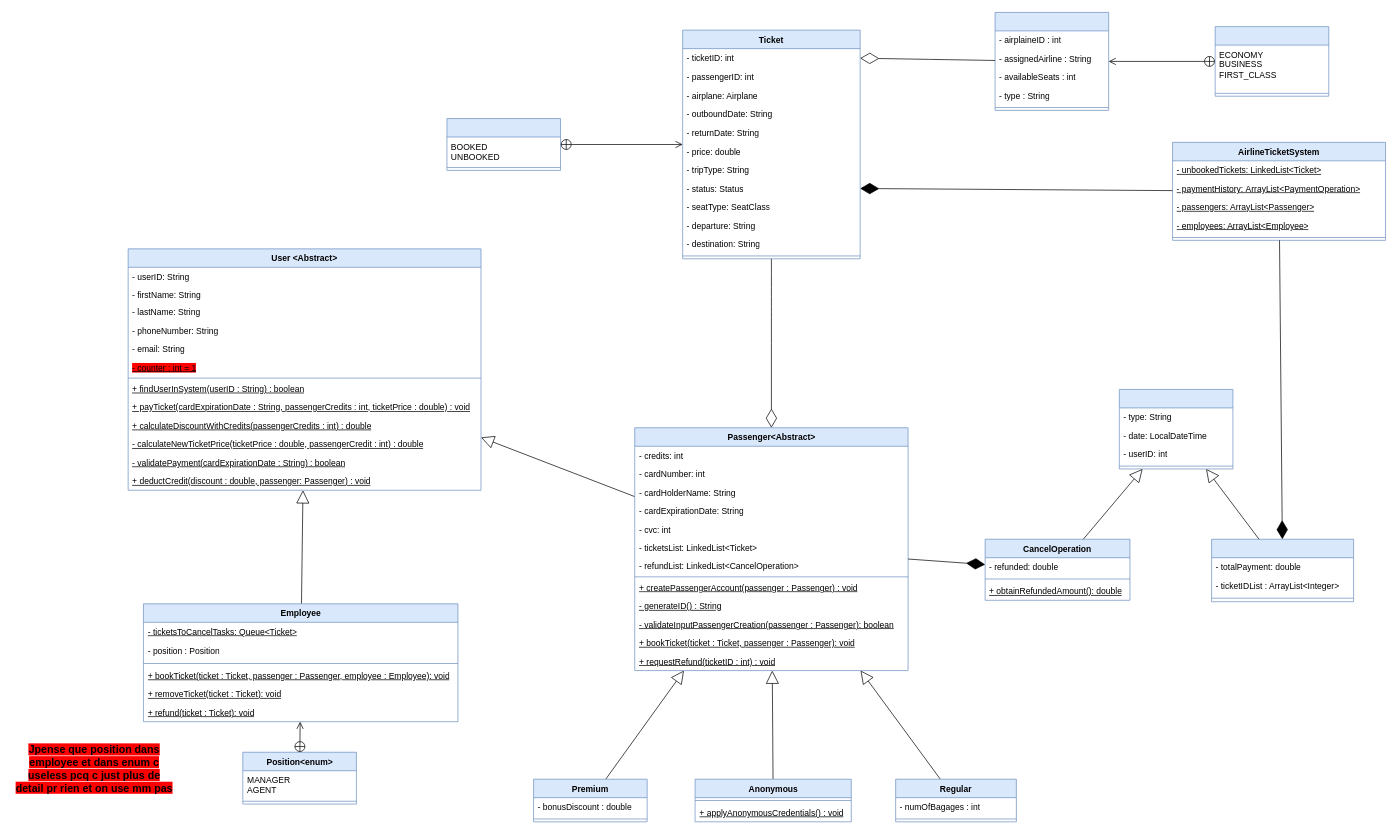
This 1398x836 diagram has some shape labels left out. Here are the shapes that lost their labels. From the top down, the box of each, then its label:
(994, 12, 1109, 110): Airplane
(1214, 26, 1329, 96): SeatClass <enum>
(446, 118, 561, 170): Status<enum>
(1119, 389, 1233, 469): Operation<Abstract>
(1211, 539, 1354, 602): PaymentOperation
